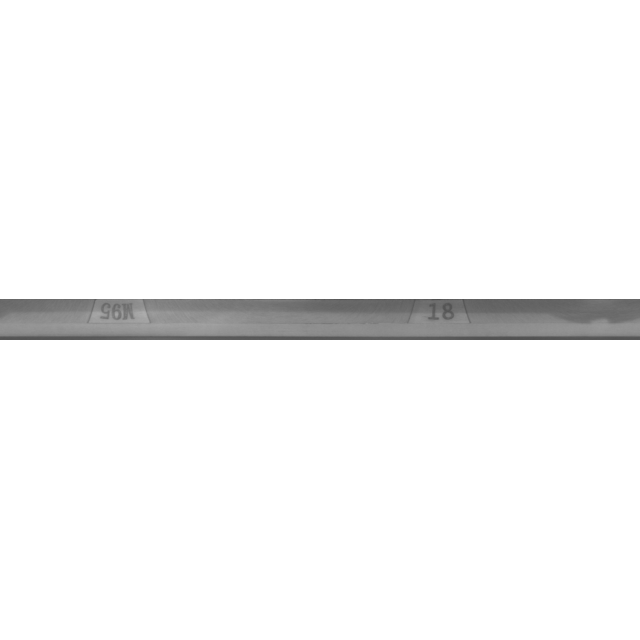mohao: (14, 270, 214, 370)
xuehao: (335, 270, 535, 370)
